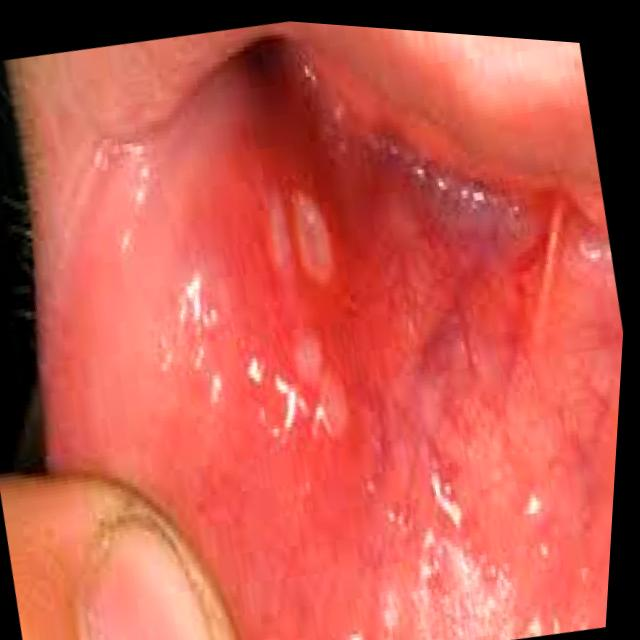ulcer: (290, 189, 332, 283), (315, 367, 346, 432), (268, 189, 289, 266), (293, 335, 321, 378)
